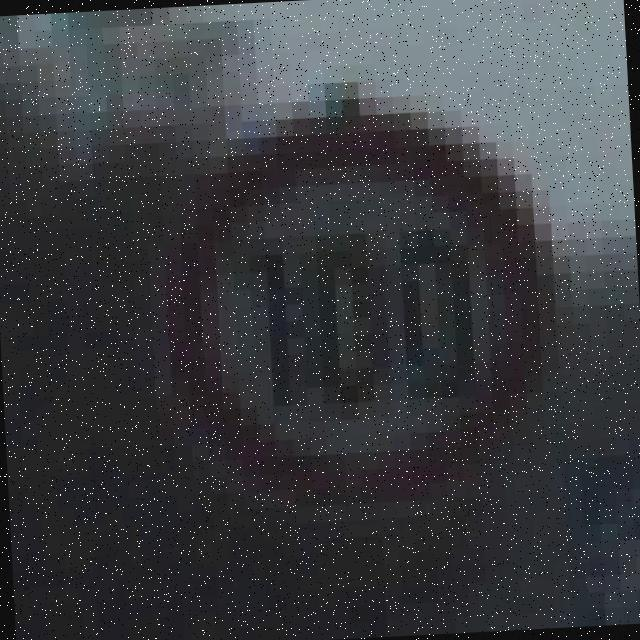Ograniczenie predkosci do 100: (158, 104, 564, 516)
